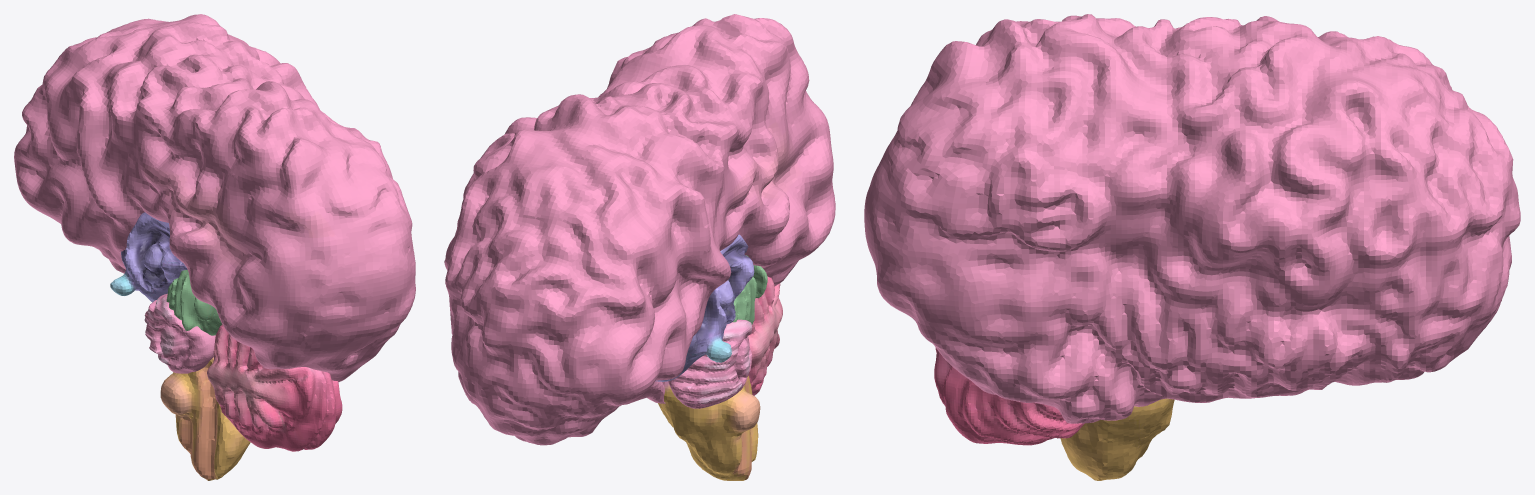
Rendered from brain_mozgowie_przekrojvol10.fbx.
3 renders of one model, left to right at view 1: azimuth 30°, elevation 25°; view 2: azimuth 150°, elevation 25°; view 3: azimuth 270°, elevation 25°, orthographic. The views are drawn at different scales.
Parts seen in each view (by area): view 1: kresomozgowie, mozdzek, rdzen_przedluzony, miedzymozgowie, most, srodmozgowie; view 2: kresomozgowie, rdzen_przedluzony, most, miedzymozgowie, mozdzek, srodmozgowie; view 3: kresomozgowie, mozdzek, rdzen_przedluzony.
Part boxes in pixels (left/top/right/bottom): kresomozgowie: left=14, top=14, right=415, bottom=382; mozdzek: left=207, top=324, right=342, bottom=451; rdzen_przedluzony: left=160, top=357, right=250, bottom=480; miedzymozgowie: left=110, top=212, right=187, bottom=302; most: left=144, top=293, right=215, bottom=373; srodmozgowie: left=166, top=269, right=222, bottom=335; kresomozgowie: left=444, top=14, right=835, bottom=445; rdzen_przedluzony: left=658, top=375, right=760, bottom=480; most: left=668, top=319, right=752, bottom=408; miedzymozgowie: left=655, top=234, right=754, bottom=381; mozdzek: left=748, top=276, right=782, bottom=395; srodmozgowie: left=733, top=255, right=767, bottom=324; kresomozgowie: left=864, top=14, right=1520, bottom=423; mozdzek: left=934, top=348, right=1084, bottom=445; rdzen_przedluzony: left=1060, top=398, right=1174, bottom=480.
Size of the model in its own units: 391 by 654 by 816.
